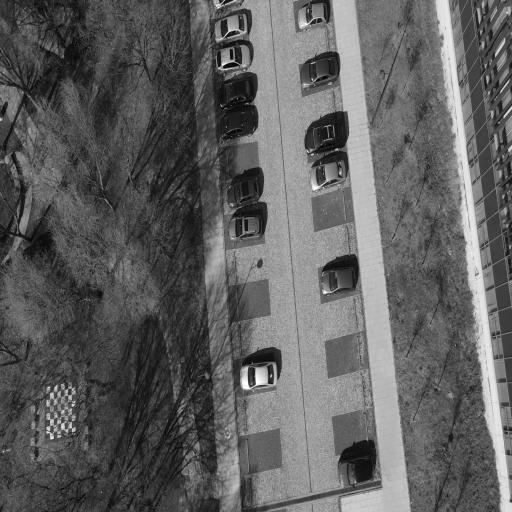person: (310, 153, 347, 191), (305, 121, 346, 154), (300, 56, 339, 90), (338, 454, 374, 488), (219, 77, 254, 108), (220, 108, 255, 139), (240, 362, 278, 390), (216, 45, 250, 75), (320, 267, 355, 295), (227, 178, 259, 208), (228, 214, 262, 242), (215, 14, 247, 43), (298, 2, 327, 31), (213, 0, 243, 11)
